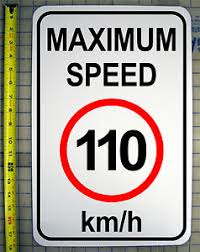Speed_limit_110km: (58, 99, 164, 203)
